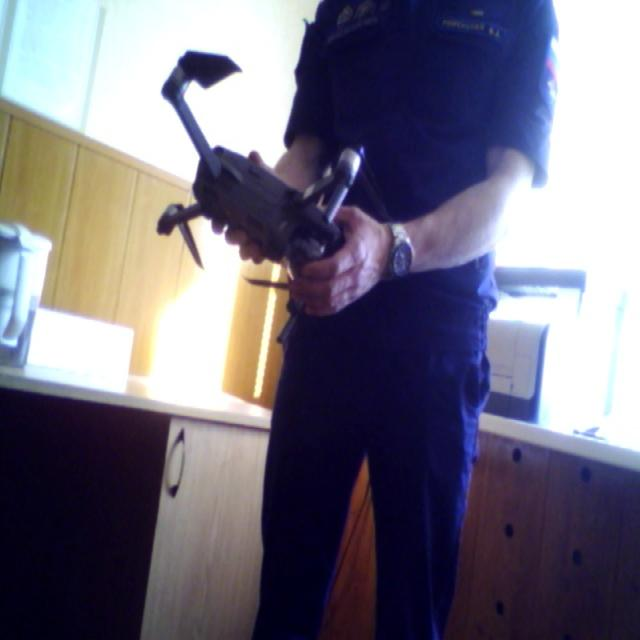drone: (137, 39, 387, 345)
